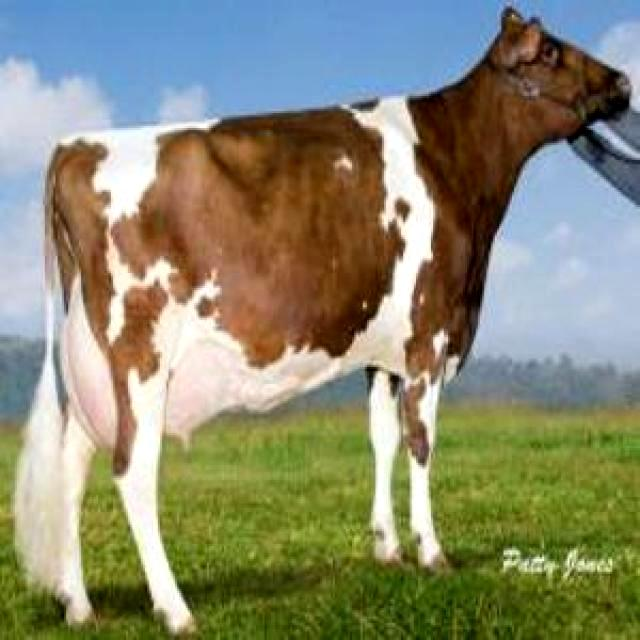COW: (15, 9, 630, 632)
